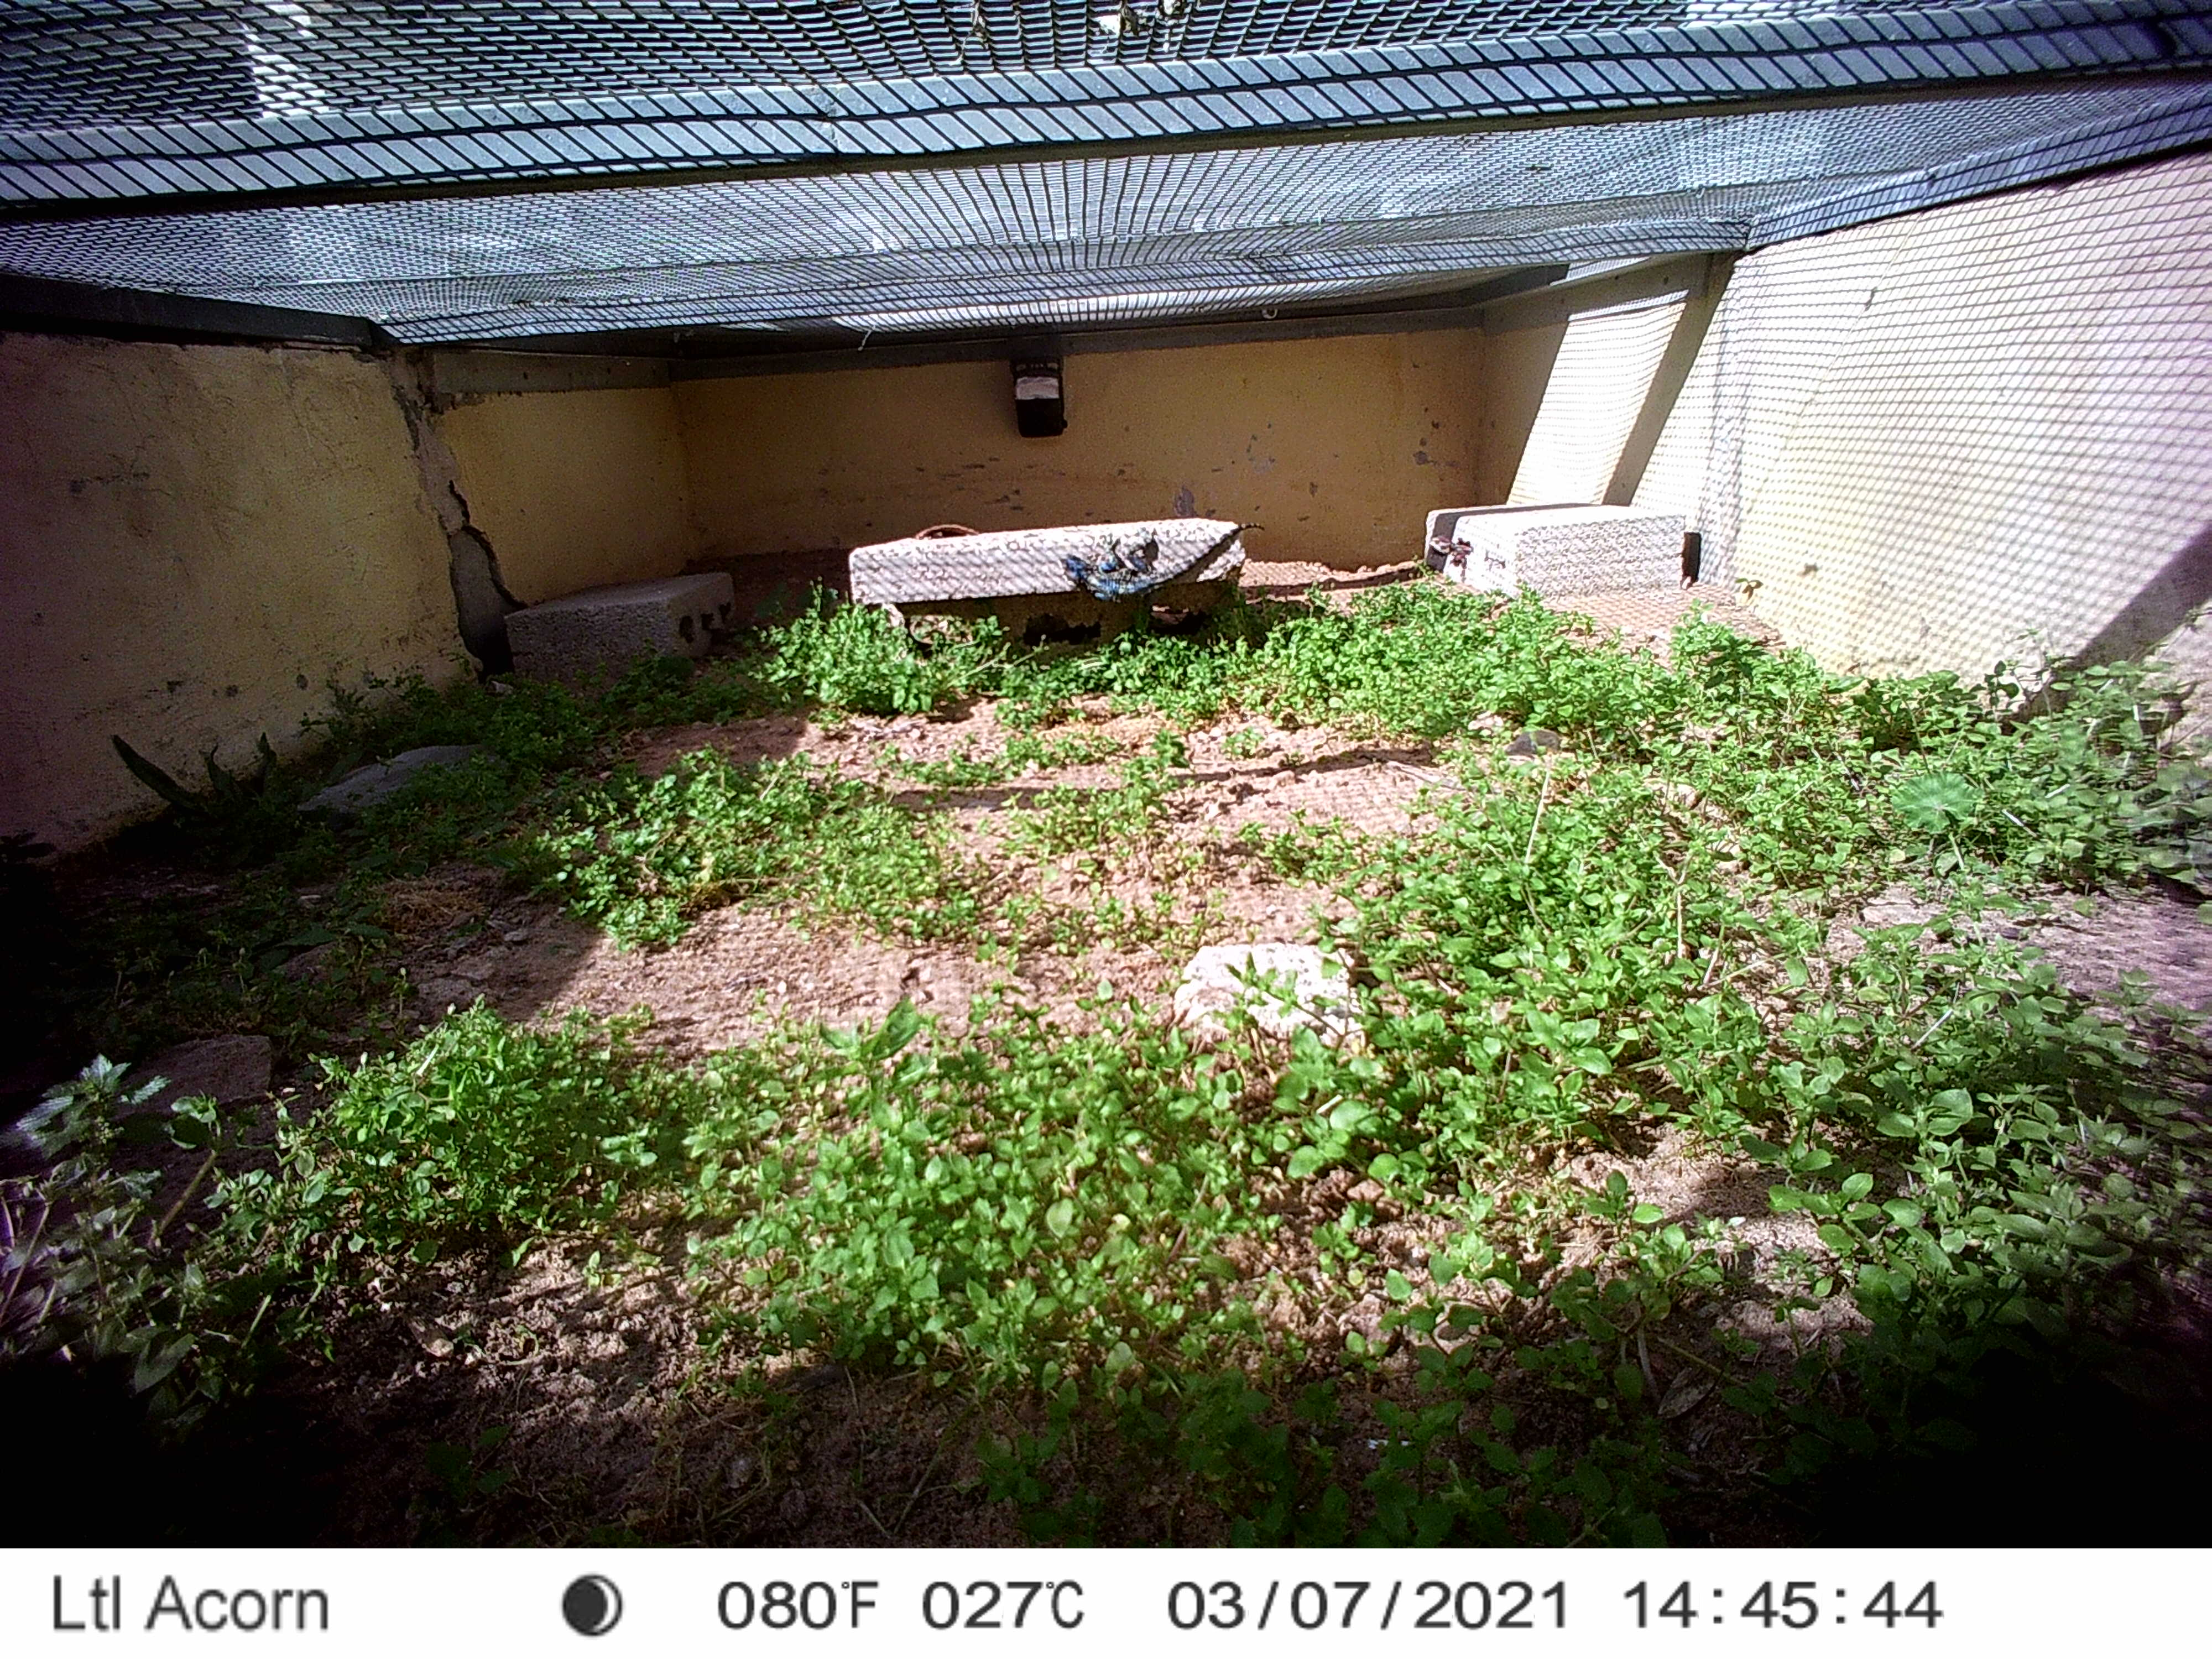lizard: (1052, 519, 1263, 636), (1425, 530, 1467, 570)
